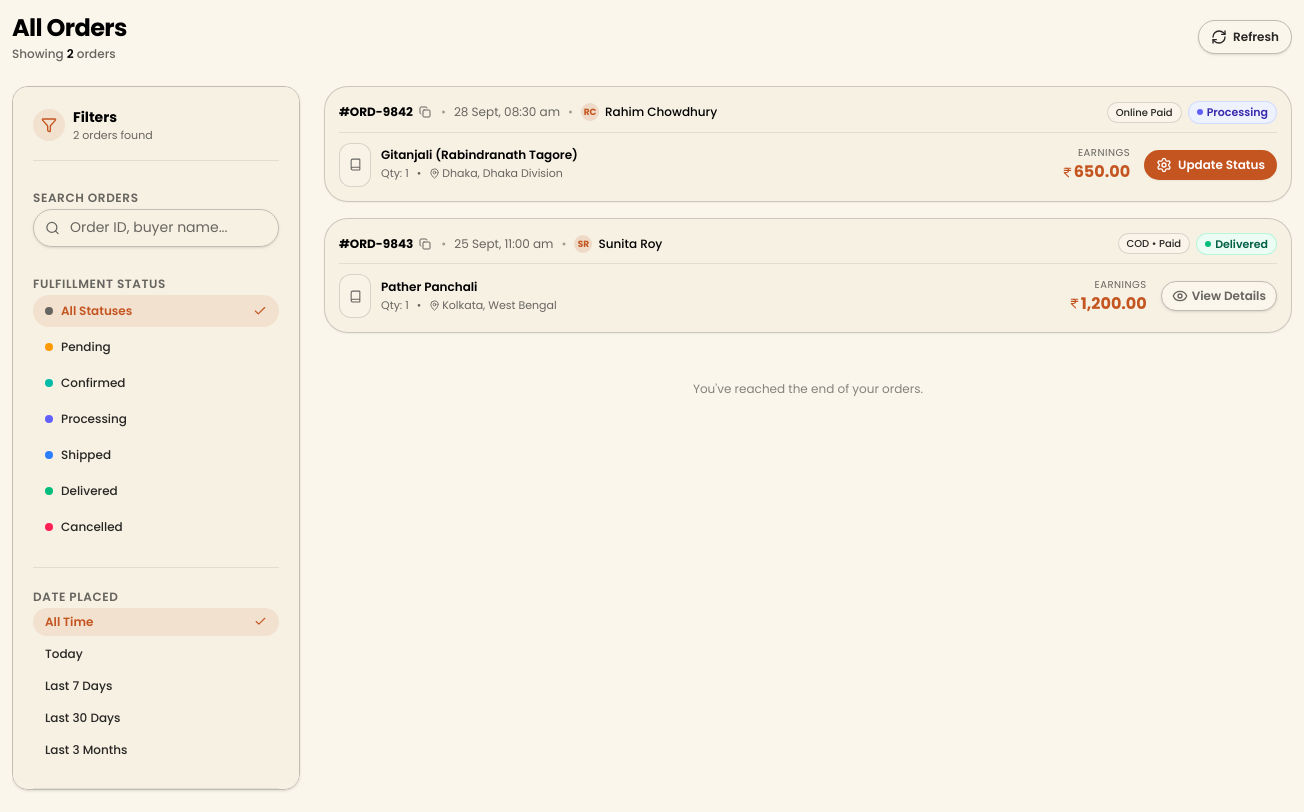
Seller Orders View & Navigation › filters orders client-side when search text is entered
expect the text "#ORD-9842" is shown: met, box [339,104,413,120]
In the field with placeholder "Order ID, buyer name...": (156, 228) [33,208,279,246], type "Sunita"
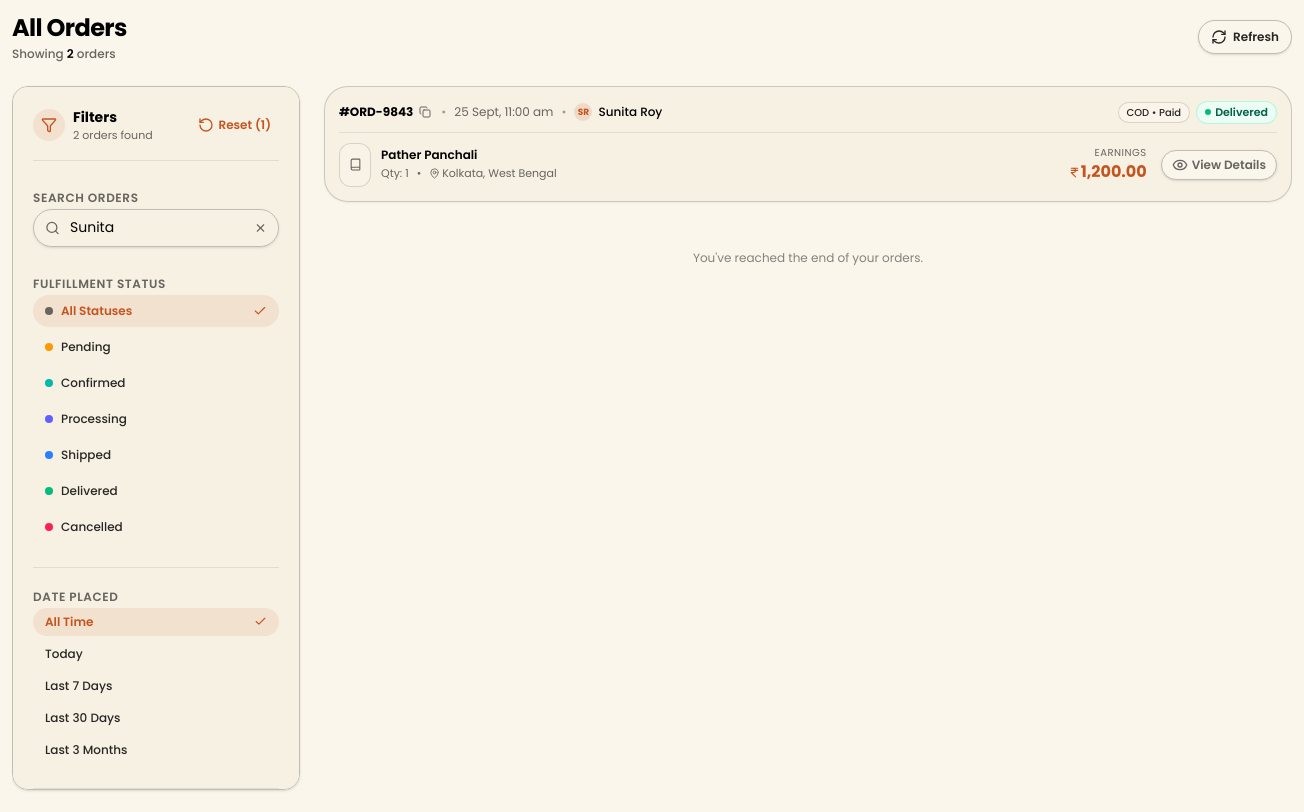
expect the text "#ORD-9843" is shown: met, box [339,104,413,120]
expect the text "#ORD-9842" is gone: met
